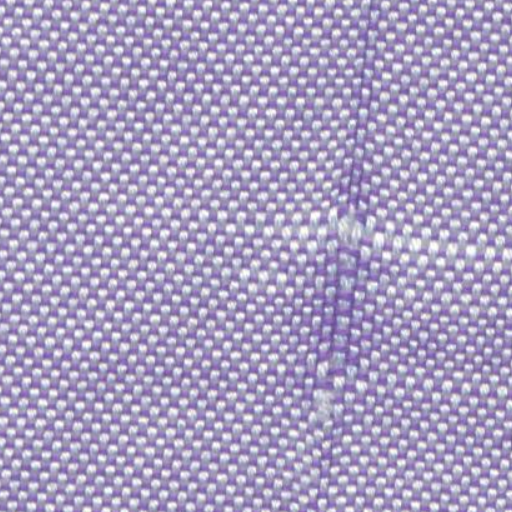DaiSha: (280, 162, 413, 432)
